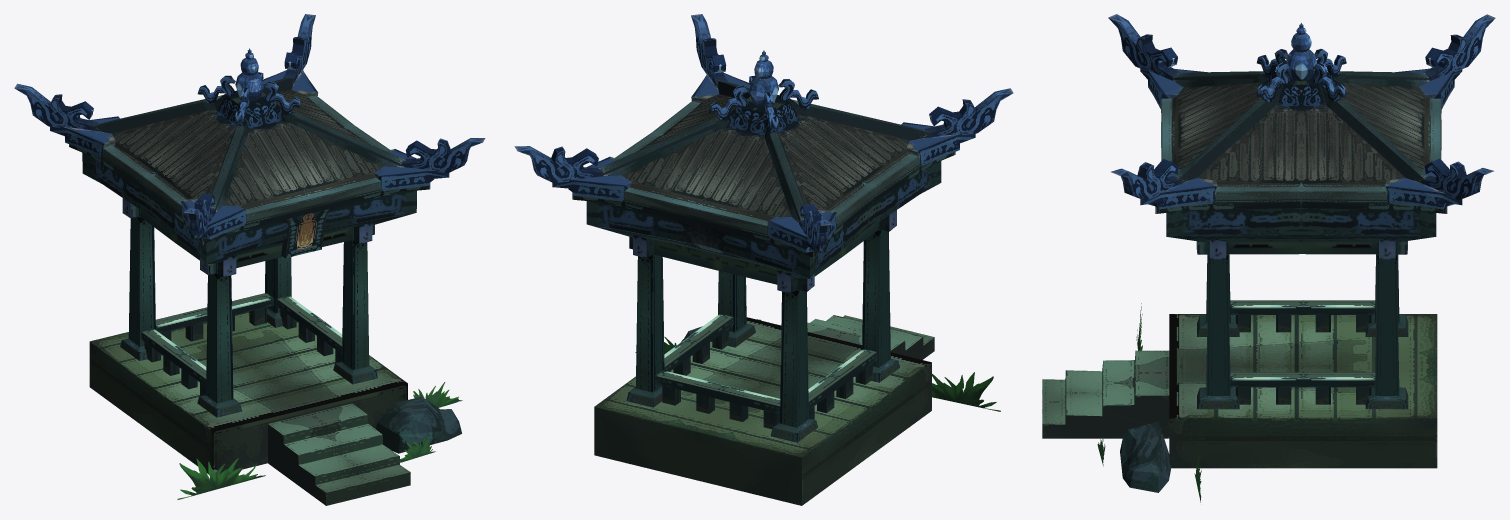
File: liangting.FBX
The picture shows the model from 3 angles, left to right: view 1: azimuth 30°, elevation 25°; view 2: azimuth 150°, elevation 25°; view 3: azimuth 270°, elevation 25°; orthographic projection. The views are drawn at different scales.
Visible parts, largest first — view 1: Object072, Object078, Object075, Object077; view 2: Object072, Object078, Object077; view 3: Object072, Object078, Object075.
Boxes of the visible parts, <box> form: Object072: <box>14,14,485,417</box>; Object078: <box>89,311,410,505</box>; Object075: <box>376,397,461,453</box>; Object077: <box>177,458,265,499</box>; Object072: <box>514,14,1013,442</box>; Object078: <box>594,315,934,505</box>; Object077: <box>932,372,1000,411</box>; Object072: <box>1108,14,1495,409</box>; Object078: <box>1042,314,1437,468</box>; Object075: <box>1120,421,1170,492</box>.
Bounding box in the file's own units: 120 × 129 × 134.
